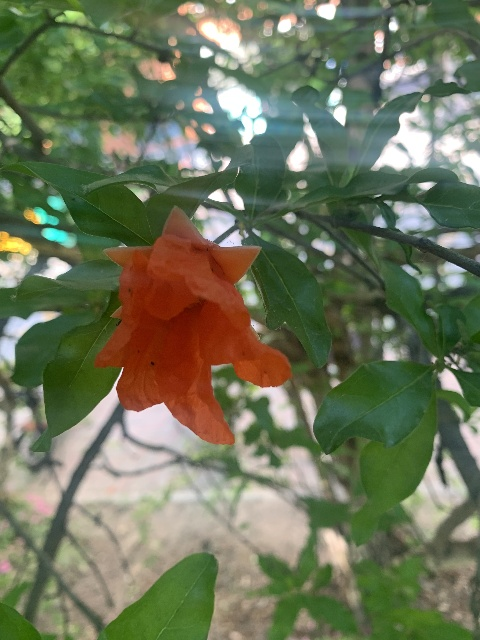flower: (96, 205, 291, 445)
